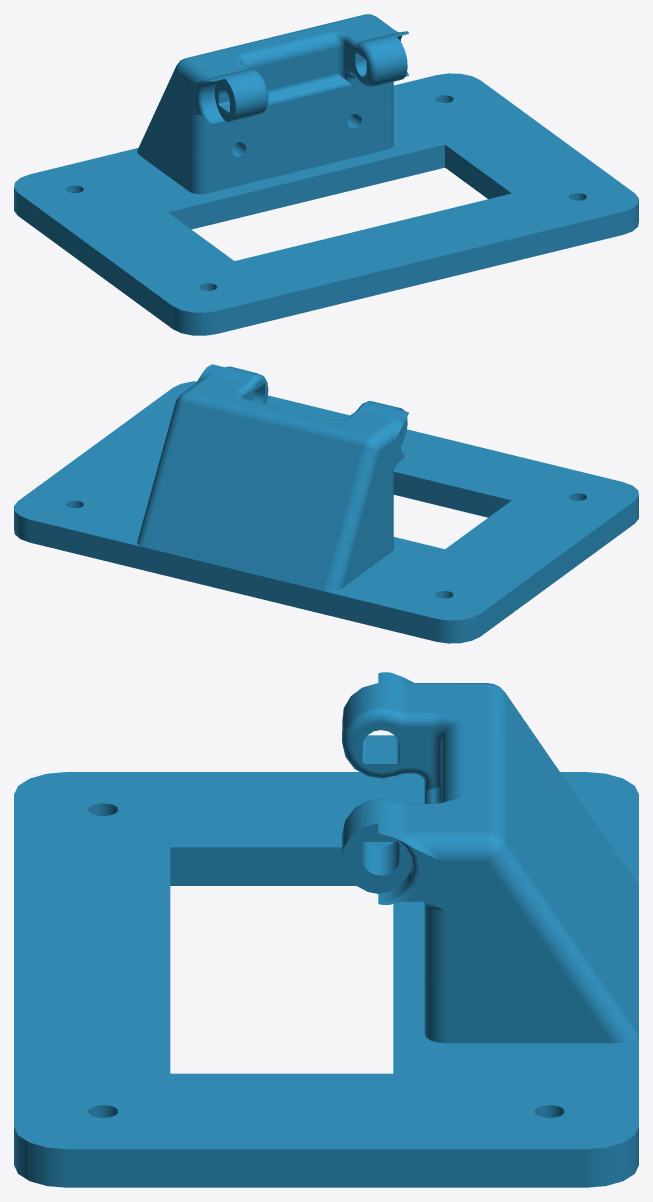
The picture shows the model from 3 angles, top to bottom: view 1: azimuth 30°, elevation 25°; view 2: azimuth 150°, elevation 25°; view 3: azimuth 270°, elevation 25°; orthographic projection. The views are drawn at different scales.
Visible parts, largest first — view 1: mesh9599, mesh9509, mesh9581, mesh9602, mesh9577, mesh9571, mesh9568, mesh9528, mesh9538, mesh9549, mesh9565, mesh9603 (+8 smaller); view 2: mesh9599, mesh9574, mesh9575, mesh9571, mesh9577, mesh9572, mesh9604, mesh9568, mesh9557, mesh9555, mesh9576, mesh9549 (+1 smaller); view 3: mesh9599, mesh9553, mesh9579, mesh9574, mesh9601, mesh9568, mesh9555, mesh9557, mesh9584, mesh9591, mesh9578, mesh9582 (+9 smaller).
Part boxes in pixels (x1,y1,x2,y2): mesh9599: (14,73,638,312); mesh9509: (207,78,386,193); mesh9581: (216,212,623,333); mesh9602: (168,144,444,229); mesh9577: (18,193,172,328); mesh9571: (139,74,200,190); mesh9568: (189,15,391,76); mesh9528: (251,48,336,89); mesh9538: (240,31,336,69); mesh9549: (362,31,408,86); mesh9565: (204,69,264,121); mesh9603: (445,145,511,199); mesh9599: (14,381,638,620); mesh9574: (143,403,362,590); mesh9575: (29,519,436,641); mesh9571: (342,428,403,587); mesh9577: (480,501,634,636); mesh9572: (323,447,379,591); mesh9604: (393,472,511,517); mesh9568: (189,375,391,436); mesh9557: (183,393,367,446); mesh9555: (137,402,182,546); mesh9576: (436,614,480,643); mesh9549: (202,364,256,380); mesh9599: (14,772,638,1149); mesh9553: (407,848,611,1043); mesh9579: (67,1149,585,1187); mesh9574: (506,695,638,1033); mesh9601: (170,847,355,885); mesh9568: (406,685,486,831); mesh9555: (487,841,638,1043); mesh9557: (487,685,506,840); mesh9584: (342,823,412,893); mesh9591: (353,722,432,773); mesh9578: (585,1127,638,1187); mesh9582: (14,1127,67,1187).
Size of the model in its own units: 0.1 by 0.0304 by 0.07.
